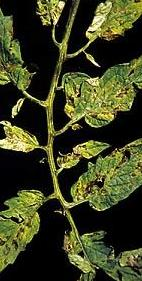Tomato Septoria leaf spot: (55, 37, 142, 131), (71, 124, 142, 214), (0, 187, 48, 281), (0, 0, 42, 101), (81, 0, 142, 41), (102, 237, 142, 281)
